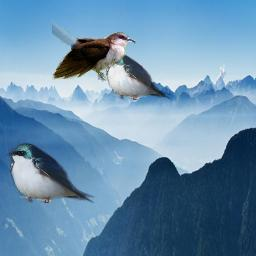Cuckoo: (52, 0, 136, 83)
Swallow: (6, 142, 95, 203), (103, 52, 173, 100)
